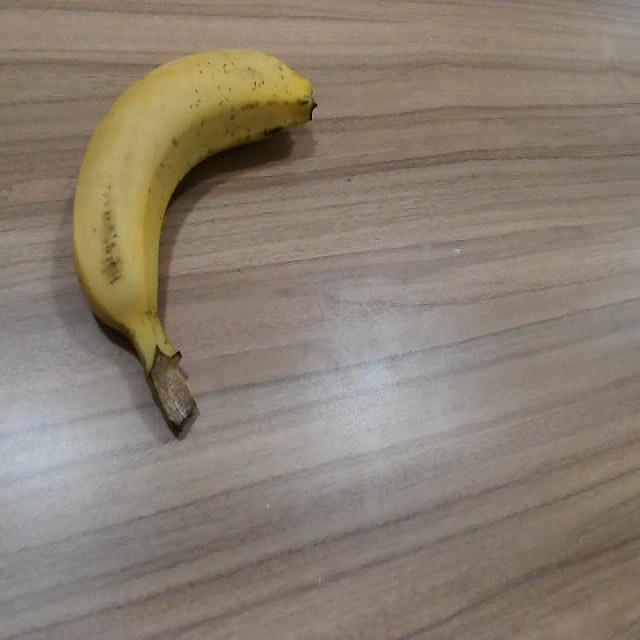Ripe: (45, 31, 350, 470)
